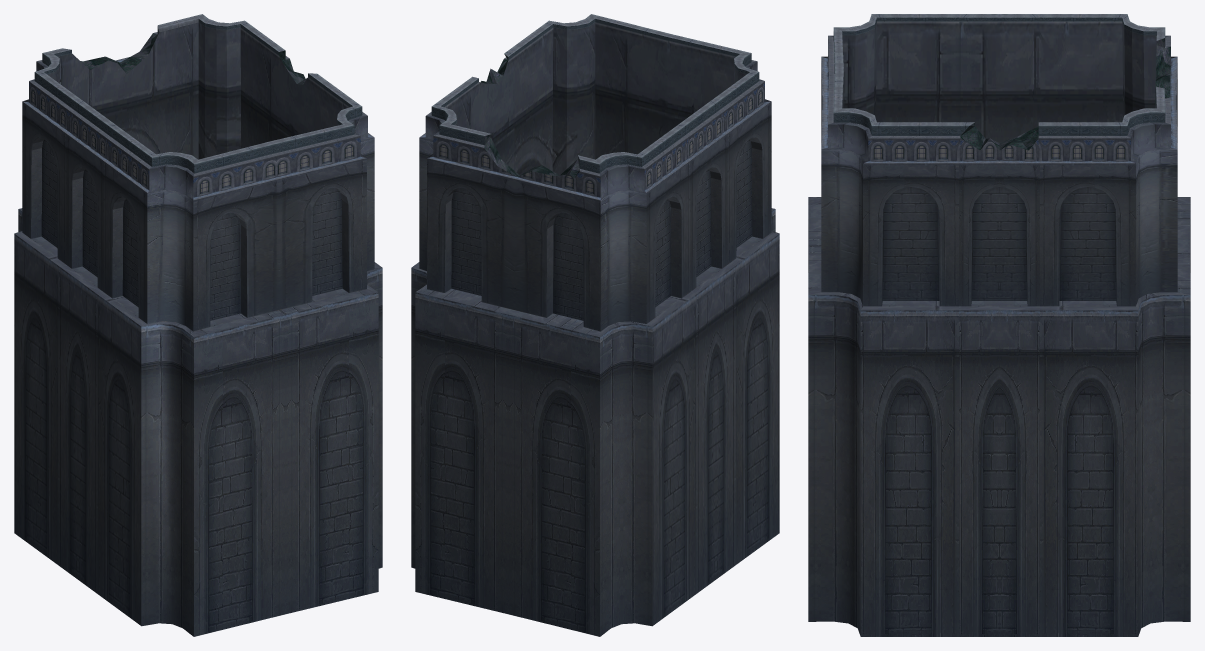
File: tlfb2_jianzhu01.FBX
The picture shows the model from 3 angles, left to right: view 1: azimuth 30°, elevation 25°; view 2: azimuth 150°, elevation 25°; view 3: azimuth 270°, elevation 25°; orthographic projection. The views are drawn at different scales.
Parts seen in each view (by area): view 1: tlfb2_jianzhu01; view 2: tlfb2_jianzhu01; view 3: tlfb2_jianzhu01.
Boxes of the visible parts, x1,y1,x2,y2 form: tlfb2_jianzhu01: [14, 14, 382, 636]; tlfb2_jianzhu01: [411, 14, 779, 636]; tlfb2_jianzhu01: [808, 14, 1190, 636].
Bounding box in the file's own units: 3076 × 5617 × 3872.
